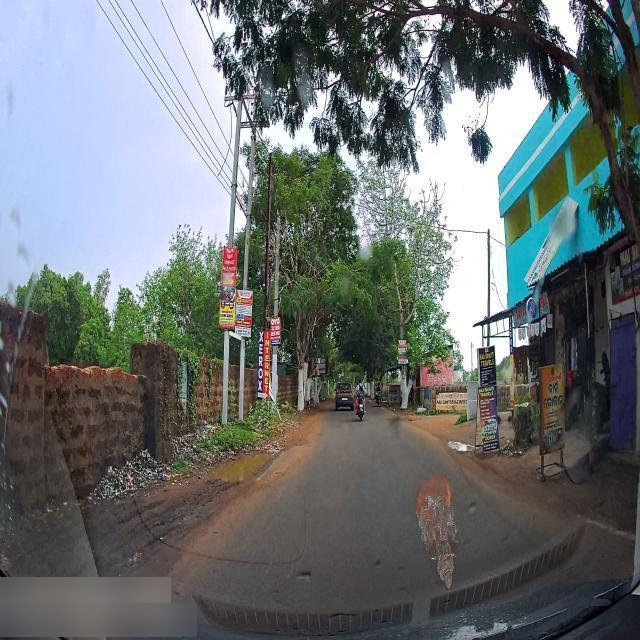pothole: (444, 425, 477, 464)
